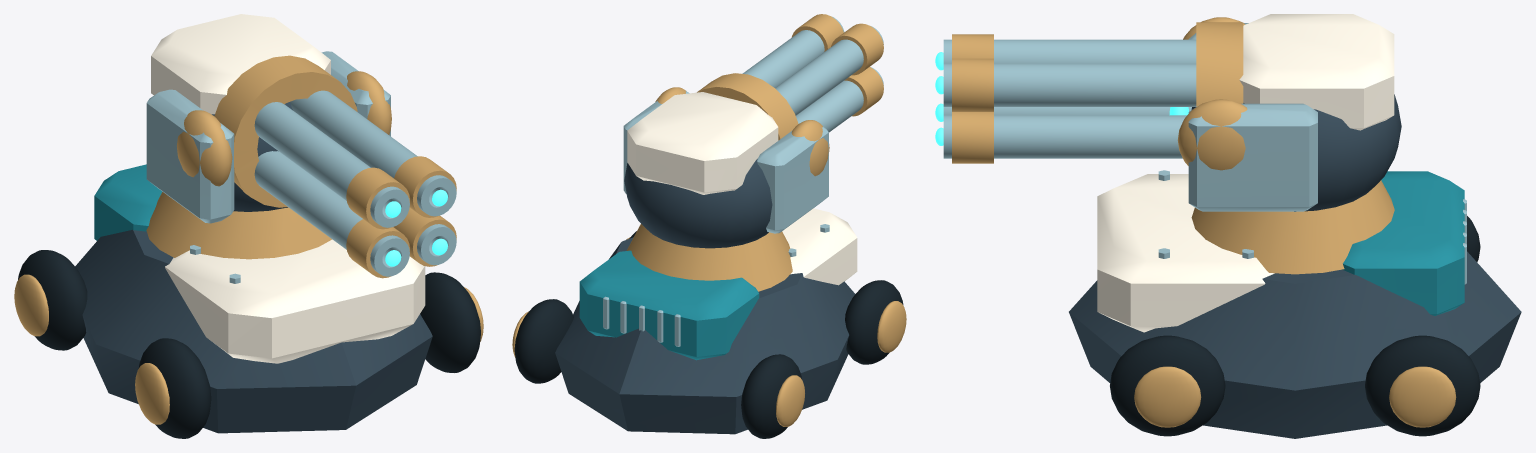
Rendered from RelicLauncher.glb.
3 renders of one model, left to right at view 1: azimuth 30°, elevation 25°; view 2: azimuth 150°, elevation 25°; view 3: azimuth 270°, elevation 25°, orthographic. The views are drawn at different scales.
Visible parts, largest first — view 1: chassis, barrels, turret, yoke; view 2: chassis, turret, barrels, yoke; view 3: chassis, barrels, turret, yoke.
Part boxes in pixels (x1=…): chassis: x1=14, y1=164, x2=483, y2=438; barrels: x1=214, y1=55, x2=456, y2=278; turret: x1=146, y1=14, x2=331, y2=259; yoke: x1=146, y1=51, x2=391, y2=223; chassis: x1=512, y1=208, x2=906, y2=438; turret: x1=624, y1=92, x2=792, y2=291; barrels: x1=697, y1=14, x2=883, y2=140; yoke: x1=623, y1=87, x2=829, y2=233; chassis: x1=1069, y1=170, x2=1521, y2=438; barrels: x1=935, y1=22, x2=1243, y2=163; turret: x1=1169, y1=14, x2=1401, y2=274; yoke: x1=1177, y1=17, x2=1317, y2=211.
Bounding box in the file's own units: 2.39 × 2.22 × 3.5.
